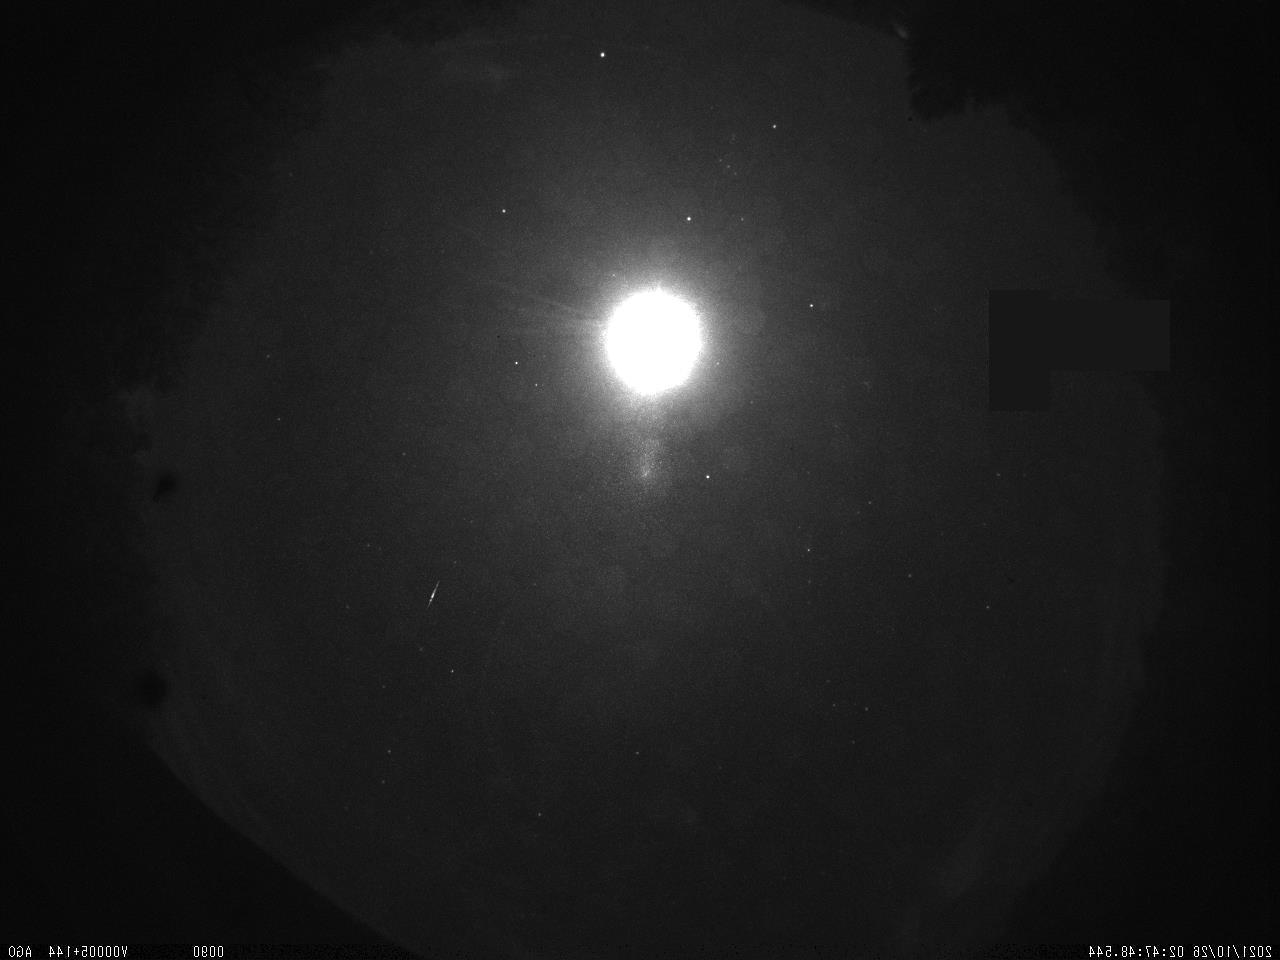meteor: (409, 575, 451, 617)
